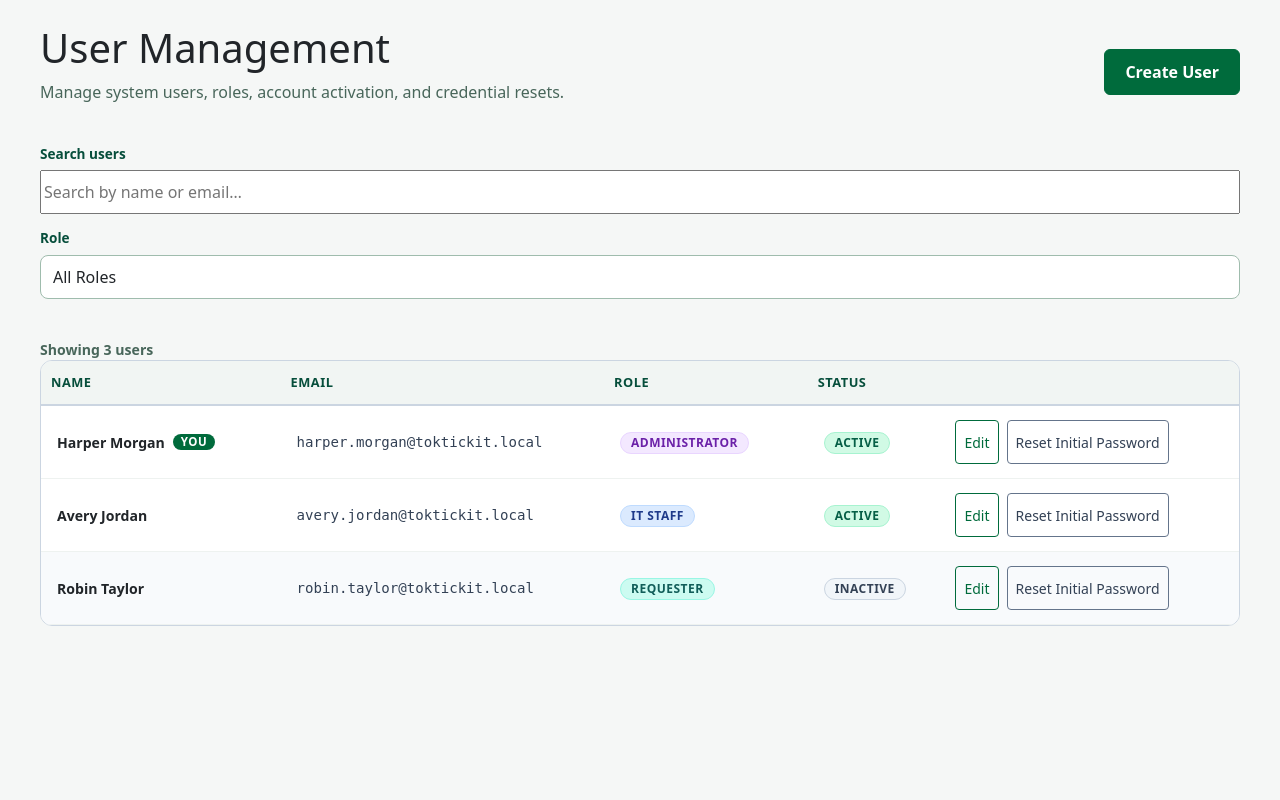
it: UI-USER-01: Administrator User Management › opens reset password dialog and sets new initial password
Expected: the text "Avery Jordan" is shown, top-left (57, 504), bottom-right (147, 526)
Click the button with aria-label "Reset password for Avery Jordan" at (1088, 515), box top-left (1006, 493), bottom-right (1168, 537)
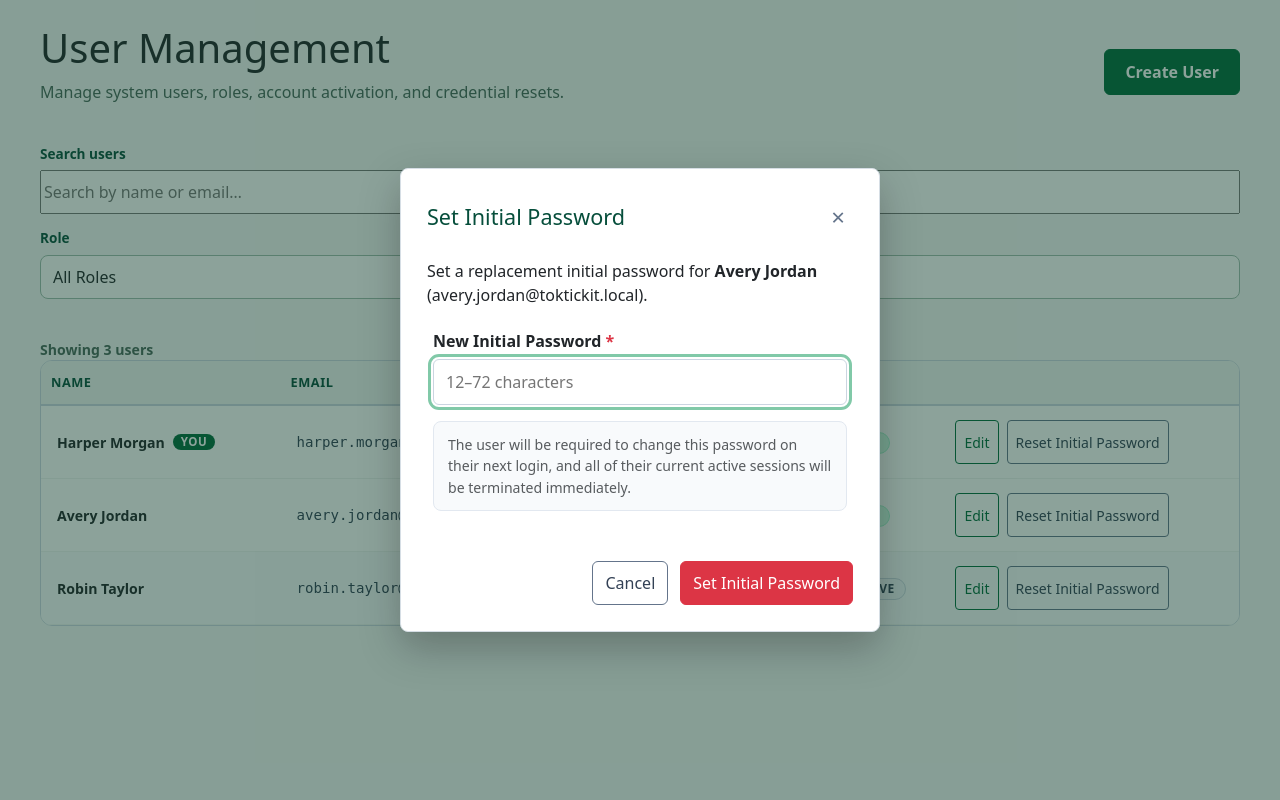
Result: the dialog is shown at top-left (400, 168), bottom-right (880, 632)
Result: the heading "Set Initial Password" is shown at top-left (427, 204), bottom-right (625, 230)
Type "NewTempSecret-2026!" into the password field labelled "New Initial Password *" at (640, 382), box top-left (433, 359), bottom-right (847, 405)
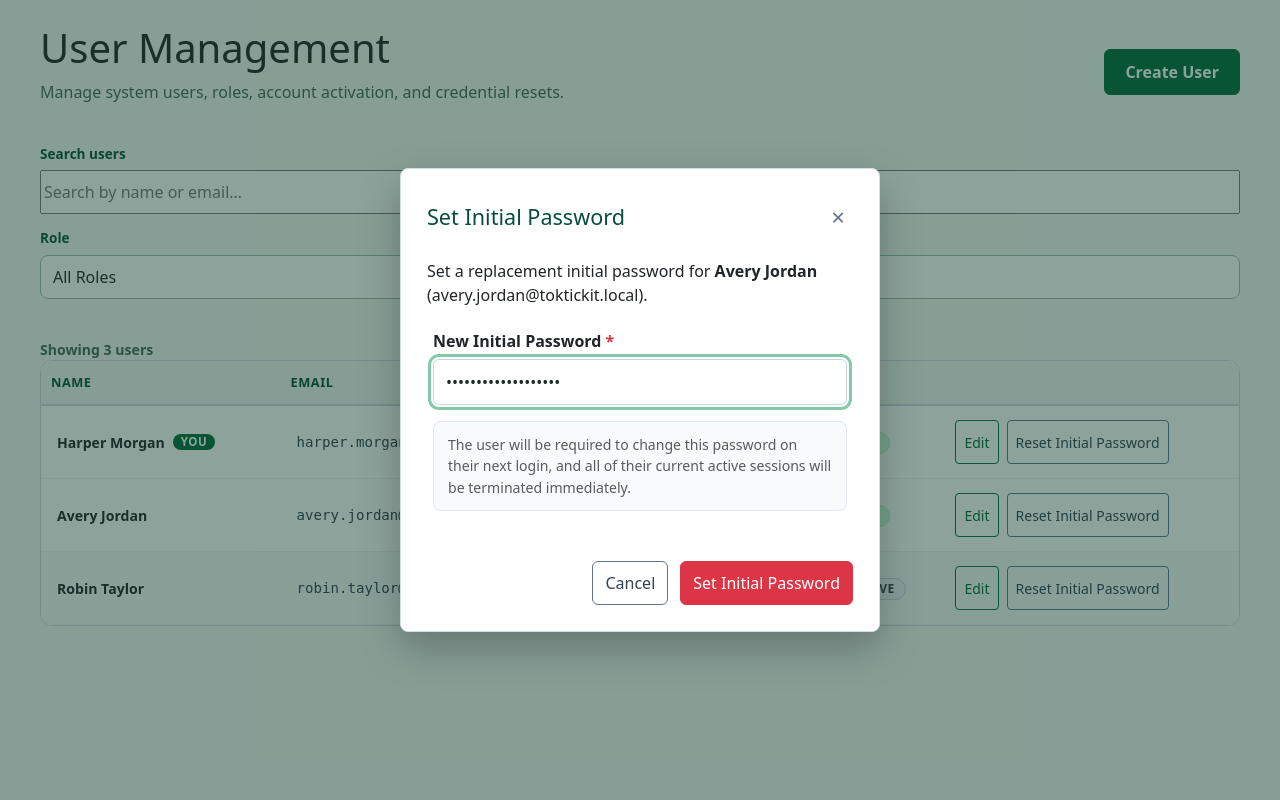
Click the button "Set Initial Password" at (767, 583), box top-left (680, 561), bottom-right (853, 605)
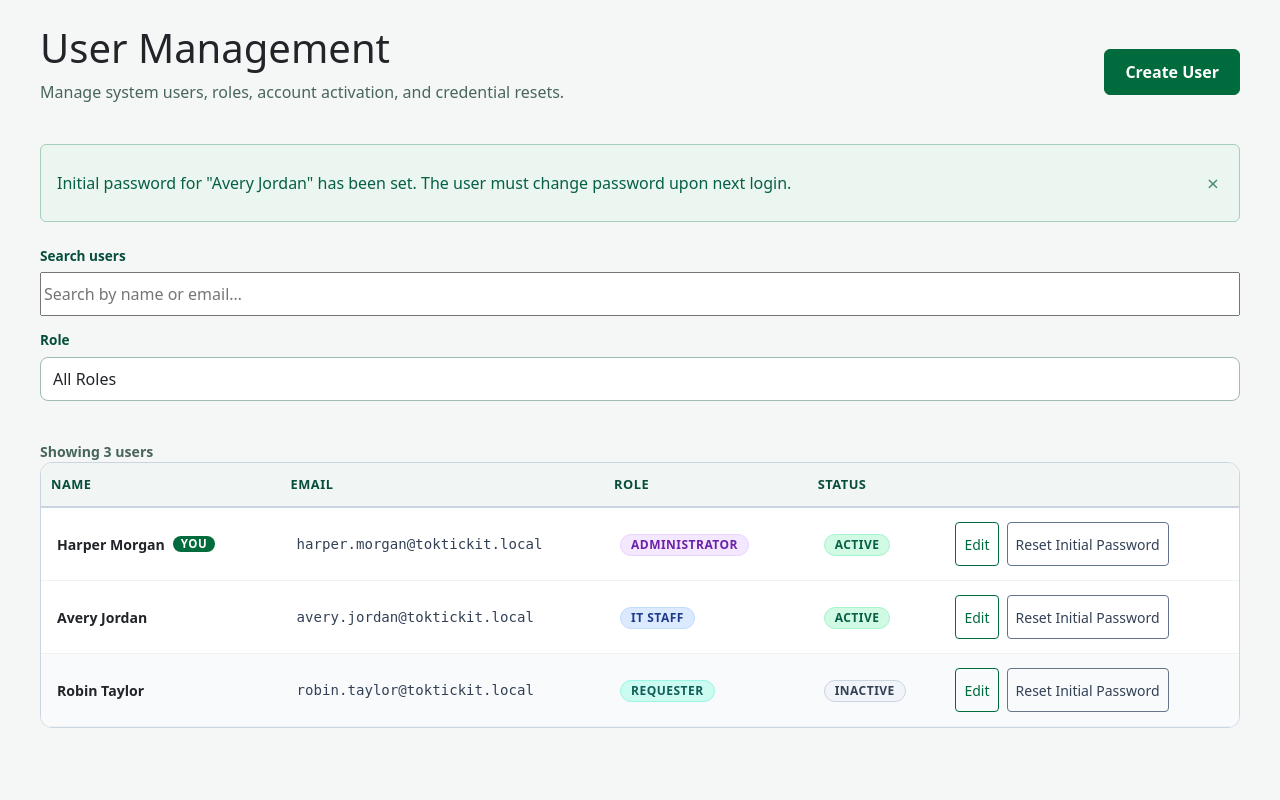
Result: the text "Initial password for \"Avery Jordan\" has been set" is shown at top-left (57, 172), bottom-right (791, 194)
